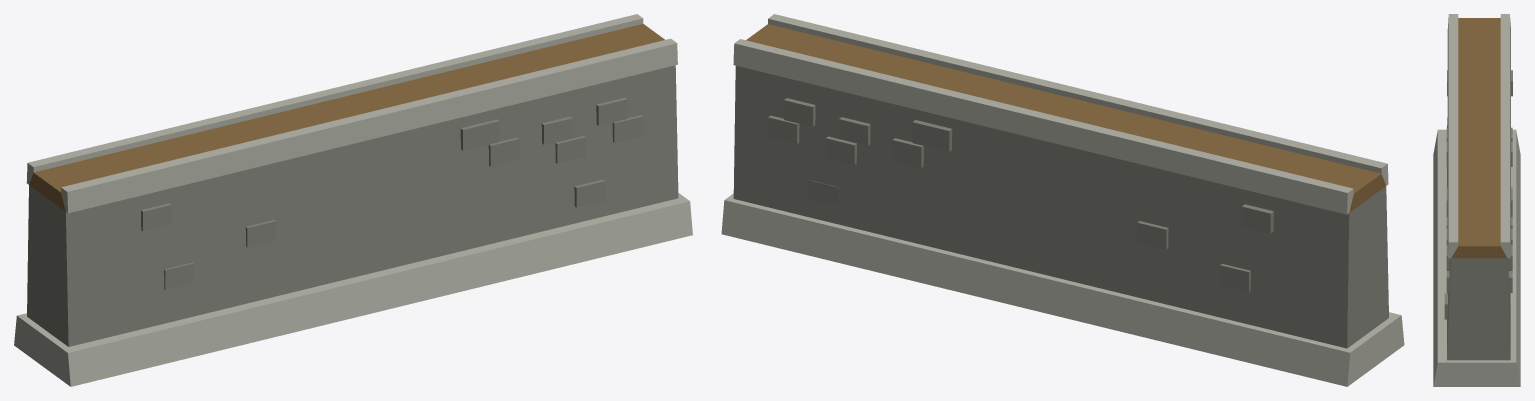
The model's file is Wall_SecondAge.glb.
3 views of the same model, side by side, from view 1: azimuth 30°, elevation 25°; view 2: azimuth 150°, elevation 25°; view 3: azimuth 270°, elevation 25° (orthographic). The views are drawn at different scales.
Parts seen in each view (by area): view 1: Wall_SecondAge; view 2: Wall_SecondAge; view 3: Wall_SecondAge.
Boxes of the visible parts, box(x1,y1,x2,y2) form: Wall_SecondAge: box(14, 14, 692, 386); Wall_SecondAge: box(721, 14, 1404, 386); Wall_SecondAge: box(1433, 14, 1520, 386).
Bounding box in the file's own units: 1.56 × 0.446 × 0.2467.
